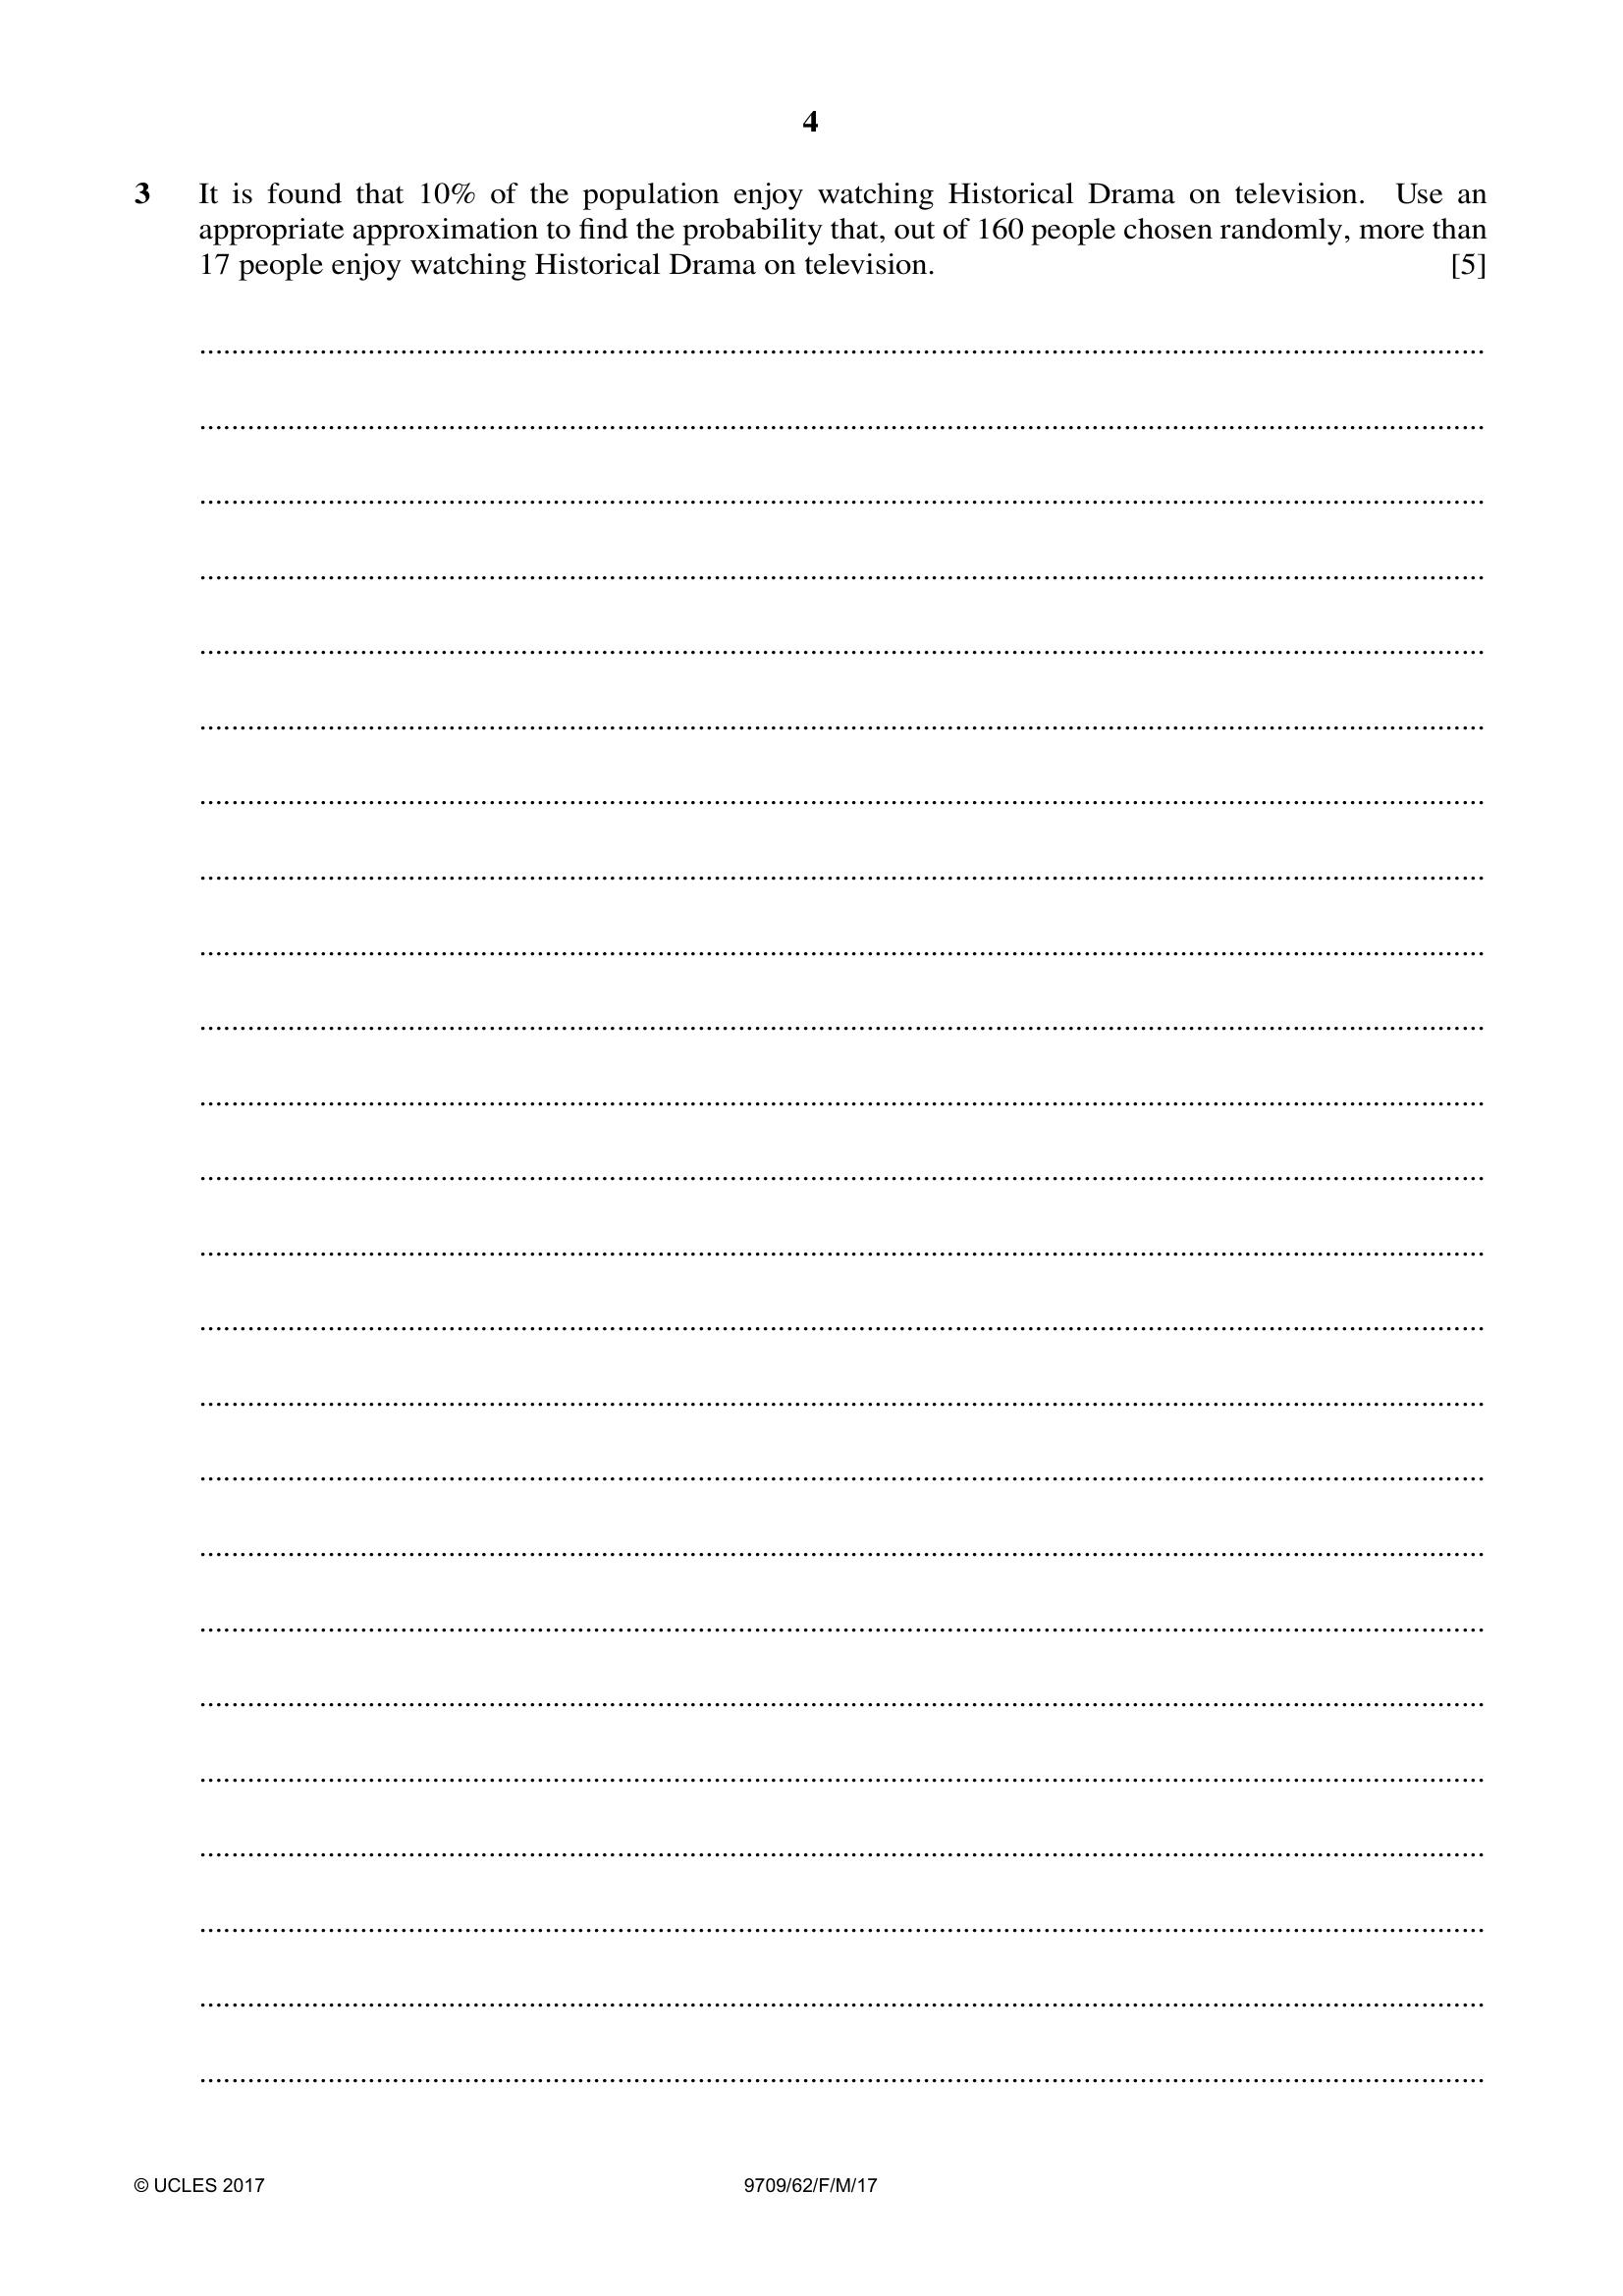question: (2, 154, 1621, 2136)
